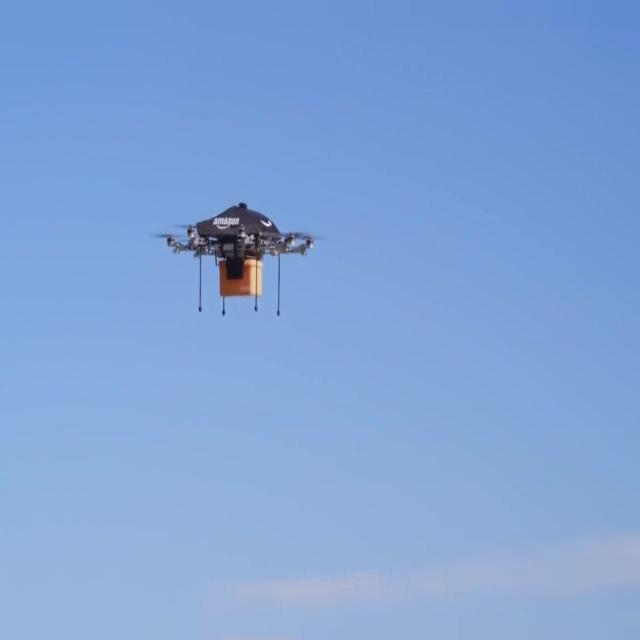UAV: (156, 202, 322, 316)
